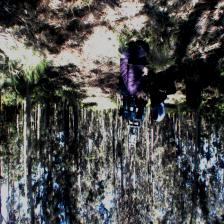trunktrack_idkeyframe: (26, 86, 32, 154), (194, 109, 198, 149)
